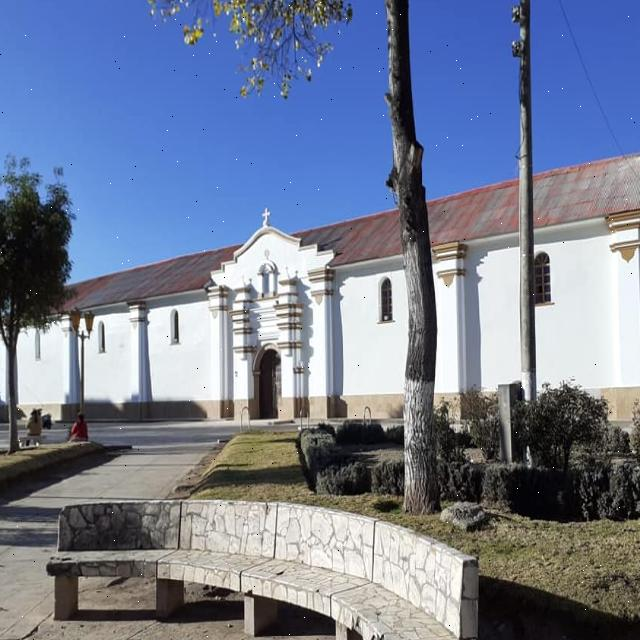PORTADA CENTRAL: (245, 343, 297, 435)
SIMETRIA COLONIAL: (0, 177, 640, 488)
